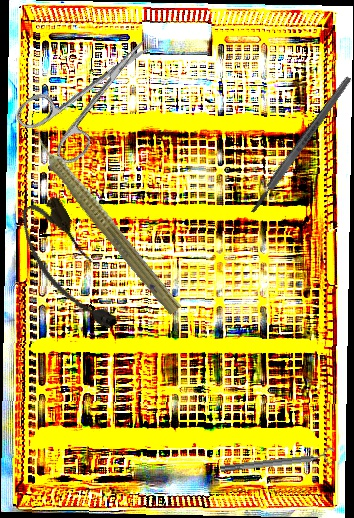Cannula: (11, 191, 126, 344)
Fixation Ring: (219, 447, 336, 477)
Handpiece: (19, 118, 190, 319)
Iris Scissors: (11, 14, 177, 174)
Scalpel Handle: (248, 74, 354, 216)
